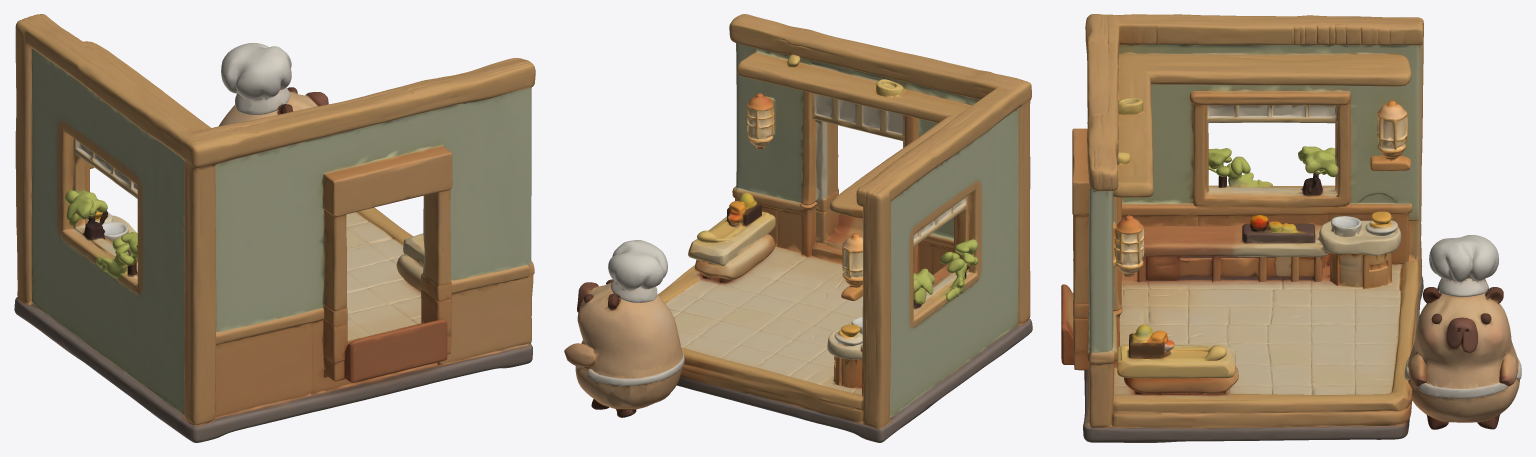
The model's file is sushi-room-v2.glb.
3 renders of one model, left to right at view 1: azimuth 30°, elevation 25°; view 2: azimuth 150°, elevation 25°; view 3: azimuth 270°, elevation 25°, orthographic. The views are drawn at different scales.
Visible parts, largest first — view 1: tripo_node_33d3c0e5-0f1c-4677-a110-e106cf492b88; view 2: tripo_node_33d3c0e5-0f1c-4677-a110-e106cf492b88; view 3: tripo_node_33d3c0e5-0f1c-4677-a110-e106cf492b88.
Boxes of the visible parts, bbox=[...] form: tripo_node_33d3c0e5-0f1c-4677-a110-e106cf492b88: bbox=[14, 14, 535, 442]; tripo_node_33d3c0e5-0f1c-4677-a110-e106cf492b88: bbox=[564, 14, 1032, 442]; tripo_node_33d3c0e5-0f1c-4677-a110-e106cf492b88: bbox=[1061, 14, 1521, 442].
Size of the model in its own units: 0.8191 by 0.6773 by 1.
Materials: 1 (1 with a texture image).
